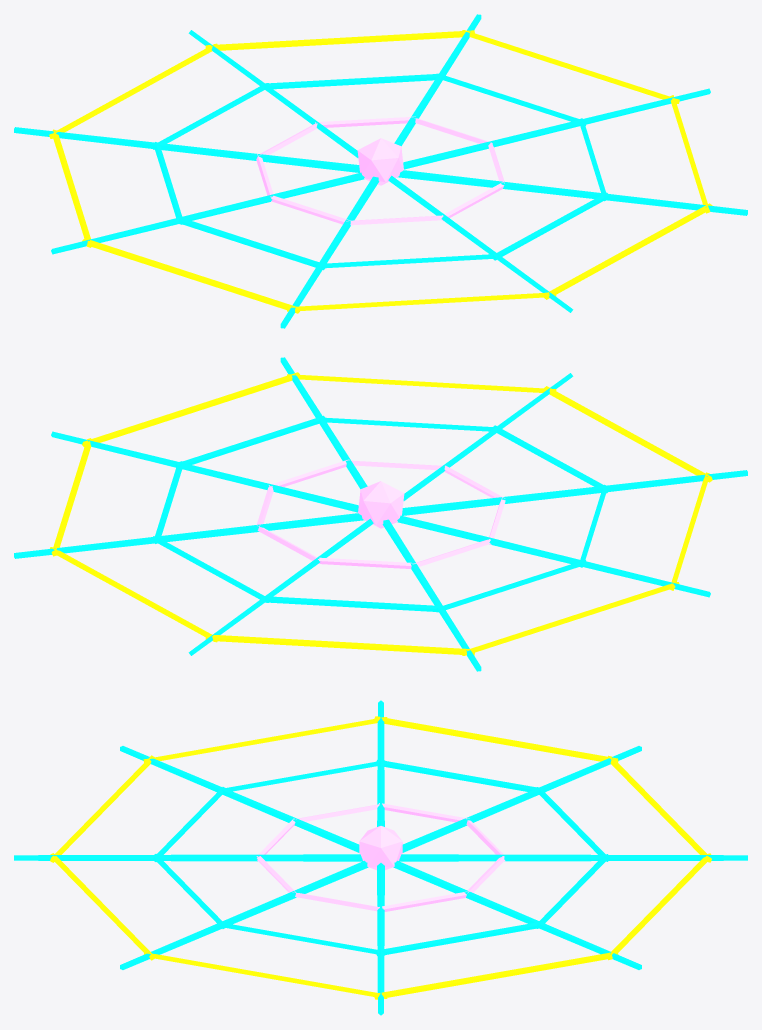
File: WireWeaver_Web.fbx
3 views of the same model, one above another, from view 1: azimuth 30°, elevation 25°; view 2: azimuth 150°, elevation 25°; view 3: azimuth 270°, elevation 25° (orthographic). The views are drawn at different scales.
Visible parts, largest first — view 1: Web_Ring2, Web_Ring1, Web_Ring0, Web_Radial3, Web_Radial7, Web_Radial0, Web_Radial4, Web_Core, Web_Radial5, Web_Radial6, Web_Radial2, Web_Radial1; view 2: Web_Ring2, Web_Ring1, Web_Ring0, Web_Radial1, Web_Radial5, Web_Radial4, Web_Radial0, Web_Core, Web_Radial3, Web_Radial2, Web_Radial6, Web_Radial7; view 3: Web_Ring2, Web_Ring1, Web_Ring0, Web_Radial2, Web_Radial6, Web_Radial7, Web_Radial1, Web_Radial5, Web_Radial3, Web_Core, Web_Radial0, Web_Radial4.
Boxes of the visible parts, x1,y1,x2,y2 form: Web_Ring2: (49,30,712,313); Web_Ring1: (152,73,608,270); Web_Ring0: (256,116,504,225); Web_Radial3: (14,127,359,172); Web_Radial7: (397,170,747,215); Web_Radial0: (403,88,710,169); Web_Radial4: (51,172,364,254); Web_Core: (357,138,403,185); Web_Radial5: (280,176,379,328); Web_Radial6: (388,175,573,312); Web_Radial2: (188,30,358,157); Web_Radial1: (394,14,481,146); Web_Ring2: (50,372,712,655); Web_Ring1: (153,415,609,612); Web_Ring0: (256,459,505,568); Web_Radial1: (14,513,364,558); Web_Radial5: (402,470,747,515); Web_Radial4: (397,515,710,597); Web_Radial0: (51,431,358,512); Web_Core: (358,481,404,528); Web_Radial3: (382,519,481,671); Web_Radial2: (188,518,373,655); Web_Radial6: (403,373,573,500); Web_Radial7: (280,357,367,489); Web_Ring2: (50,716,711,999); Web_Ring1: (153,759,609,955); Web_Ring0: (256,803,505,911); Web_Radial2: (399,854,747,861); Web_Radial6: (14,854,362,861); Web_Radial7: (120,860,368,969); Web_Radial1: (393,860,641,969); Web_Radial5: (120,746,359,852); Web_Radial3: (402,746,641,852); Web_Core: (359,826,402,870); Web_Radial0: (377,863,384,1015); Web_Radial4: (377,700,384,826).
Bounding box in the file's own units: 0.72 × 0.05 × 0.72.
